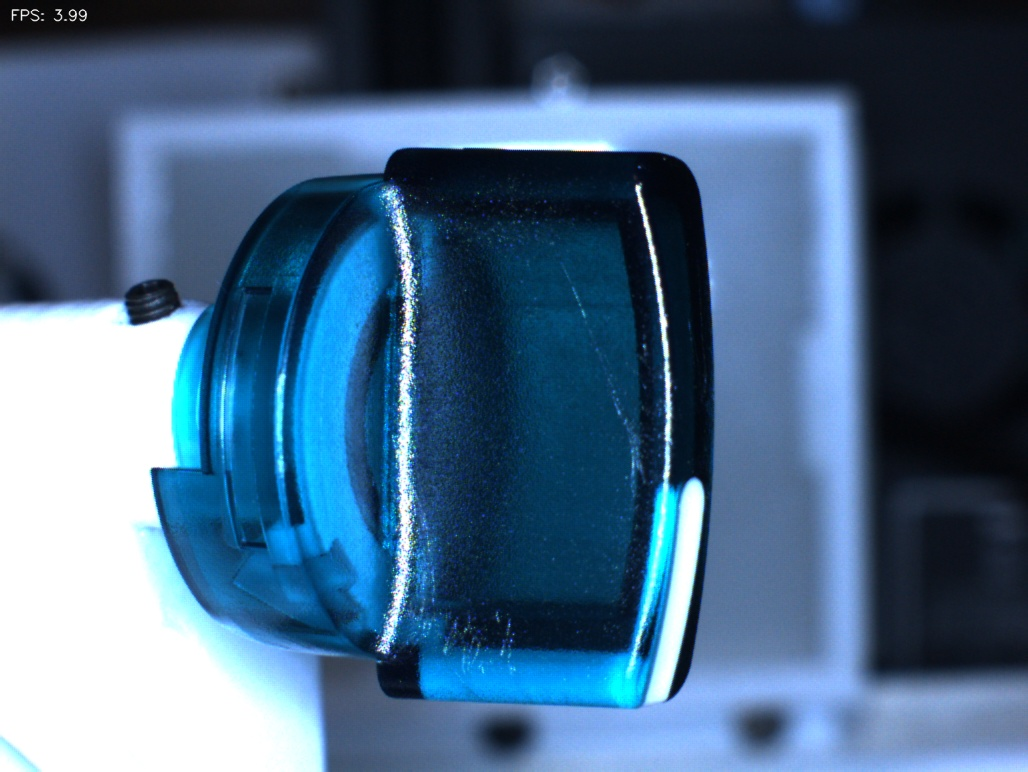Givrage: (580, 298, 654, 491)
